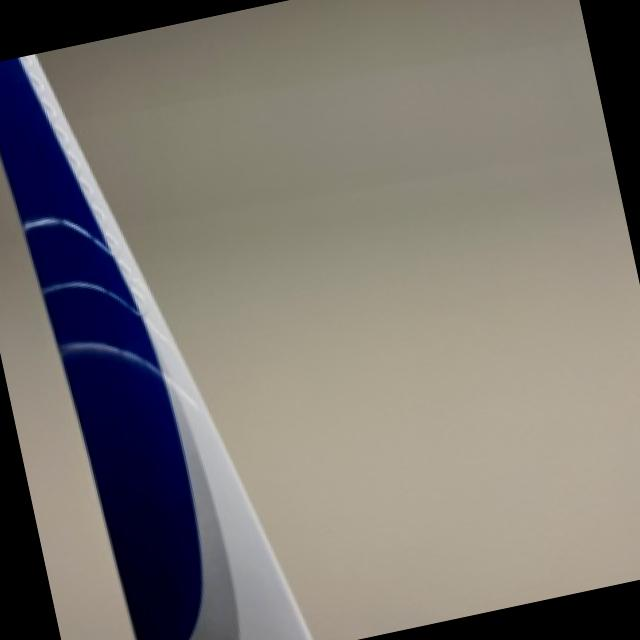healthy: (0, 54, 308, 640)
